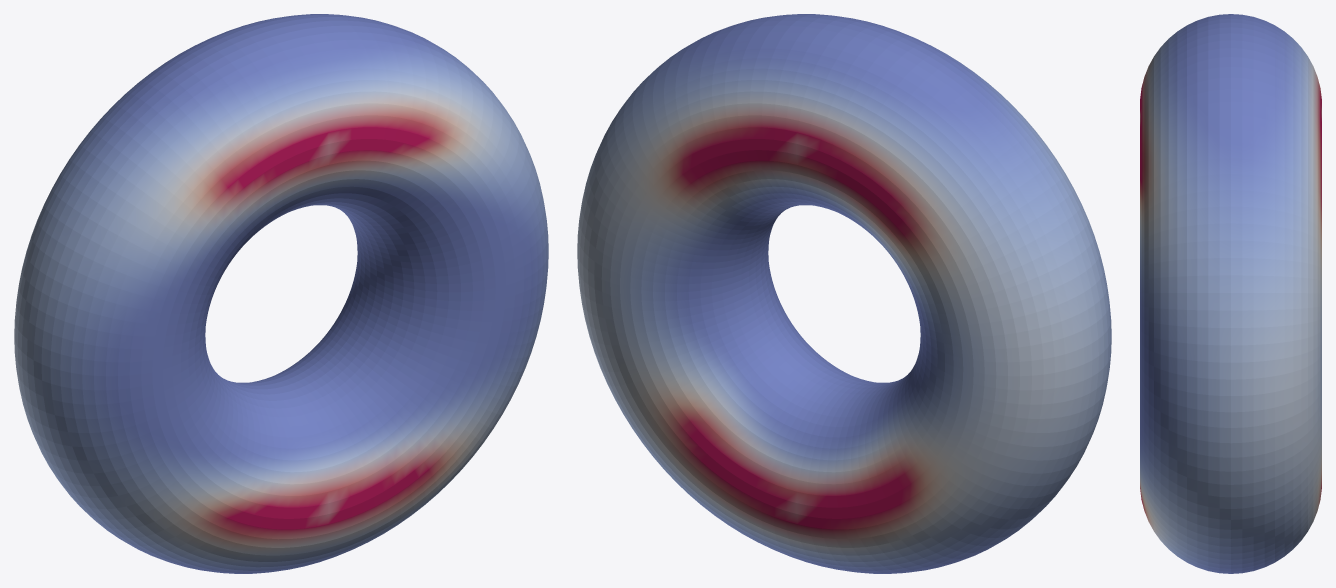
The picture shows the model from 3 angles, left to right: view 1: azimuth 30°, elevation 25°; view 2: azimuth 150°, elevation 25°; view 3: azimuth 270°, elevation 25°; orthographic projection. The views are drawn at different scales.
Visible parts, largest first — view 1: world; view 2: world; view 3: world.
Boxes of the visible parts, box(x1,y1,x2,y2) form: world: box(14, 14, 548, 573); world: box(577, 14, 1111, 573); world: box(1140, 14, 1321, 573).
Bounding box in the file's own units: 16.8 × 16.8 × 5.46.
